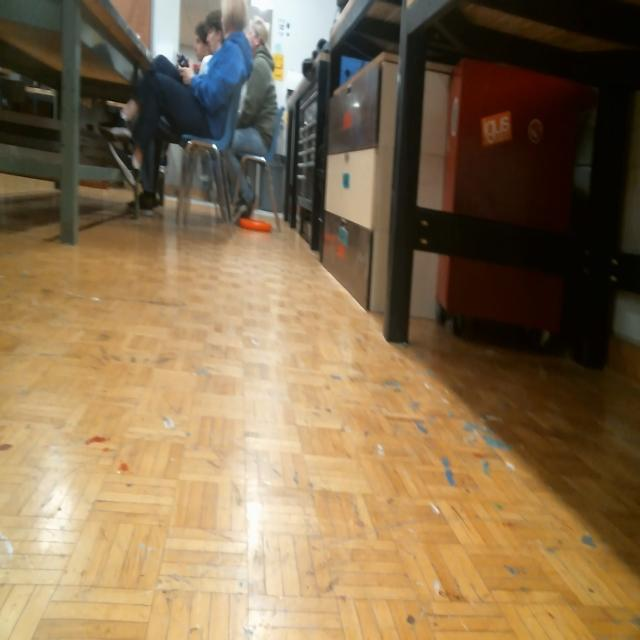note: (236, 215, 275, 233)
